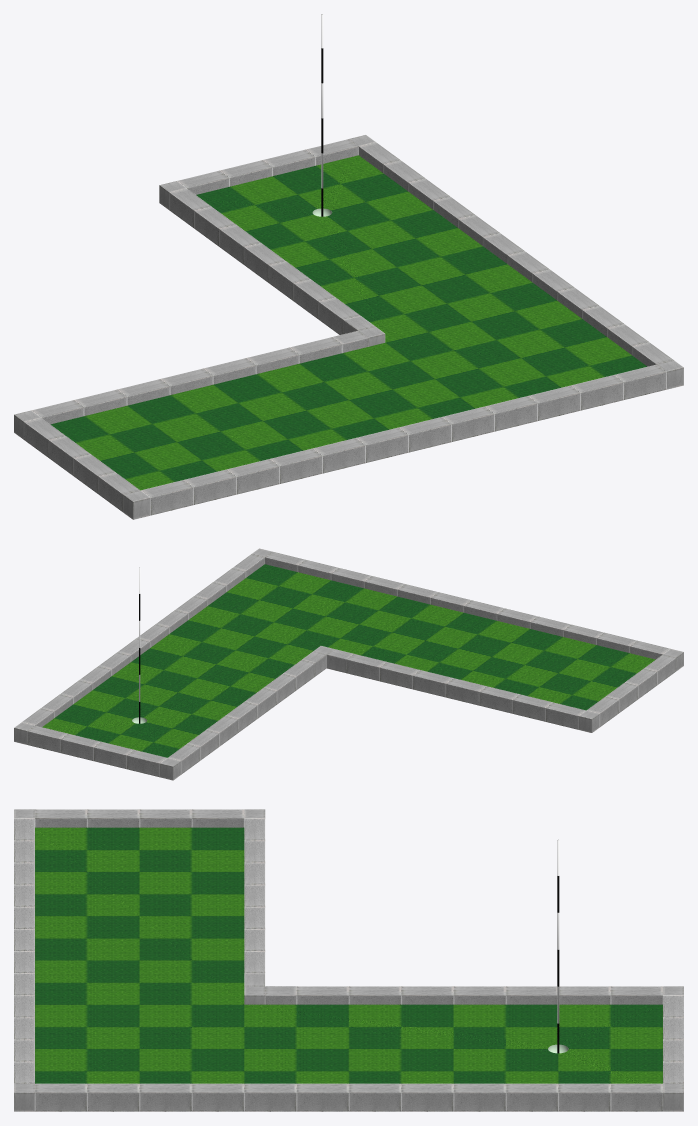
The picture shows the model from 3 angles, top to bottom: view 1: azimuth 30°, elevation 25°; view 2: azimuth 150°, elevation 25°; view 3: azimuth 270°, elevation 25°; orthographic projection. The views are drawn at different scales.
Visible parts, largest first — view 1: grassland, barrier2, barrier1, square; view 2: grassland, barrier2, barrier1, square; view 3: grassland, barrier1, barrier2, square, flagstick.
Part boxes in pixels (x1=…): grassland: x1=50, y1=155, x2=646, y2=490; barrier2: x1=31, y1=139, x2=666, y2=515; barrier1: x1=24, y1=142, x2=673, y2=512; square: x1=14, y1=135, x2=683, y2=519; grassland: x1=42, y1=564, x2=655, y2=757; barrier2: x1=27, y1=551, x2=670, y2=777; barrier1: x1=22, y1=554, x2=676, y2=774; square: x1=14, y1=548, x2=683, y2=780; grassland: x1=35, y1=827, x2=662, y2=1083; barrier1: x1=35, y1=809, x2=662, y2=1111; barrier2: x1=14, y1=818, x2=683, y2=1083; square: x1=14, y1=809, x2=683, y2=1111; flagstick: x1=557, y1=839, x2=559, y2=1053.
Bounding box in the file's own units: 64 × 23 × 64.
Materials: 4 (3 with a texture image).
